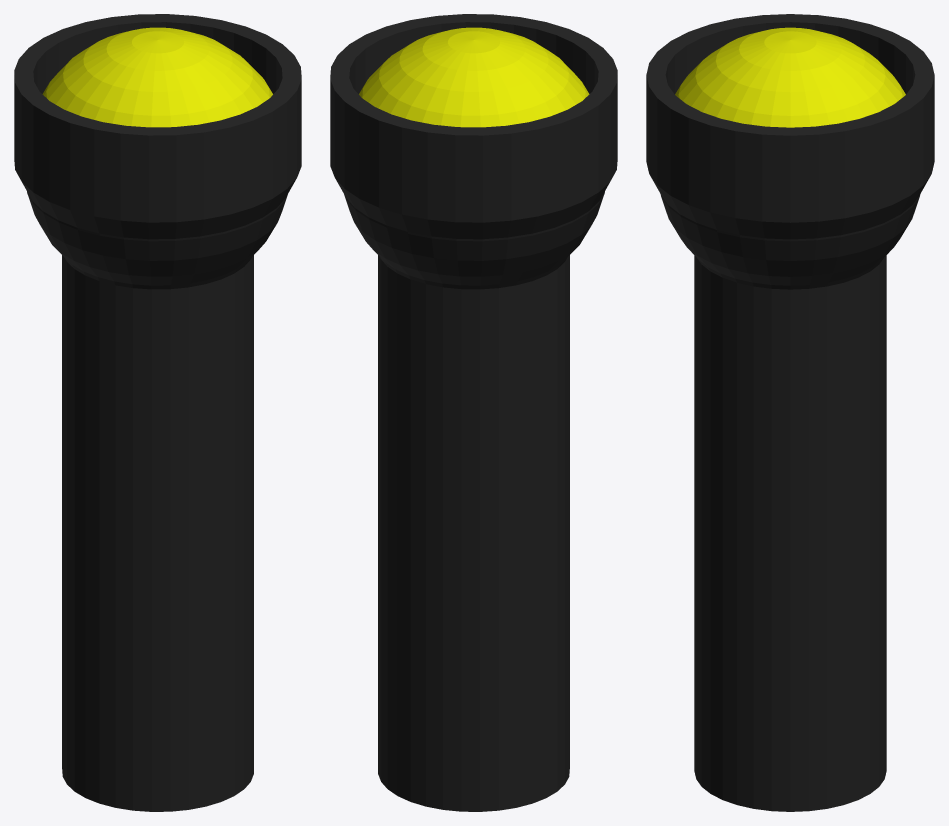
Rendered from Flashlight.fbx.
The picture shows the model from 3 angles, left to right: view 1: azimuth 30°, elevation 25°; view 2: azimuth 150°, elevation 25°; view 3: azimuth 270°, elevation 25°; orthographic projection.
Visible parts, largest first — view 1: Cylinder; view 2: Cylinder; view 3: Cylinder.
Boxes of the visible parts, <box> form: Cylinder: <box>14,14,301,811</box>; Cylinder: <box>330,14,617,811</box>; Cylinder: <box>646,14,934,811</box>.
Size of the model in its own units: 300 by 840 by 300.
